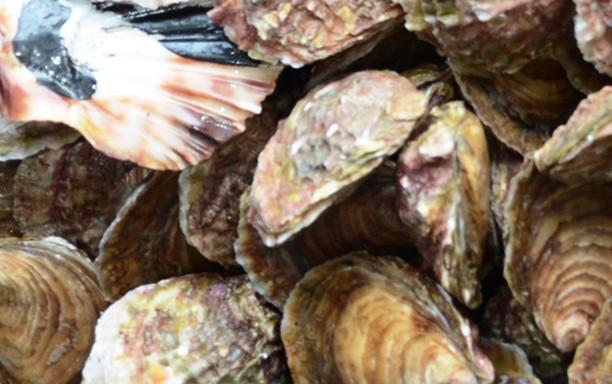3: (0, 235, 105, 384), (549, 0, 612, 92), (485, 134, 528, 262), (402, 65, 451, 115)
Oyster-Closed: (0, 0, 281, 169), (250, 69, 428, 242), (281, 250, 499, 384), (501, 86, 612, 346), (232, 166, 426, 309), (77, 271, 286, 384), (398, 104, 491, 310), (95, 169, 227, 300), (13, 141, 149, 256), (449, 55, 584, 156), (212, 0, 405, 70), (395, 0, 571, 76)
Oyster-Open: (179, 72, 304, 268), (481, 285, 569, 384), (569, 305, 612, 384), (0, 116, 77, 159), (483, 338, 543, 384)
